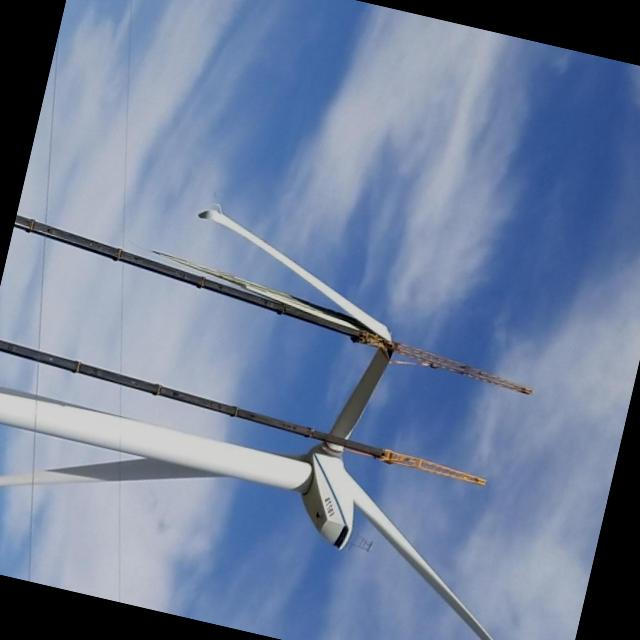crack: (165, 198, 422, 376)
